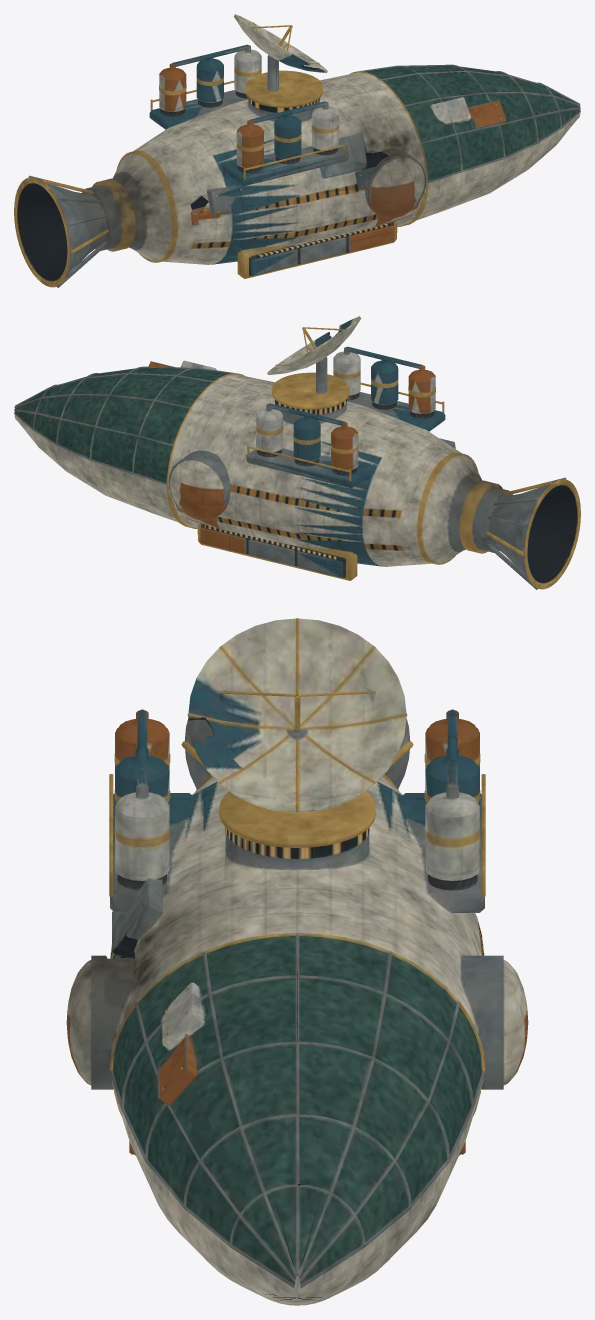
Rendered from seed-patched.glb.
3 views of the same model, one above another, from view 1: azimuth 30°, elevation 25°; view 2: azimuth 150°, elevation 25°; view 3: azimuth 270°, elevation 25° (orthographic). The views are drawn at different scales.
Parts seen in each view (by area): view 1: seed-patched; view 2: seed-patched; view 3: seed-patched.
Boxes of the visible parts, box(x1,y1,x2,y2) form: seed-patched: box(14, 14, 580, 287); seed-patched: box(14, 316, 580, 589); seed-patched: box(66, 618, 528, 1305).
Size of the model in its own units: 1 by 0.4107 by 0.3716.
Materials: 1 (1 with a texture image).
